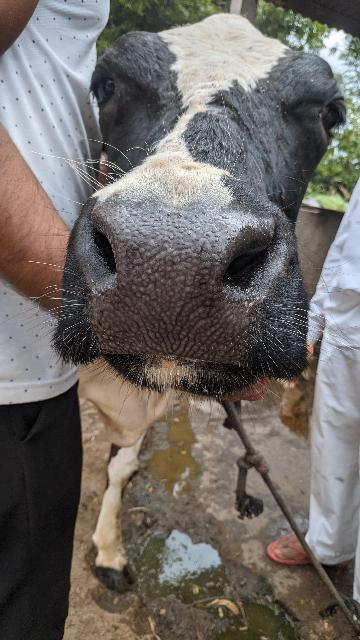Muzzle: (96, 203, 262, 369)
